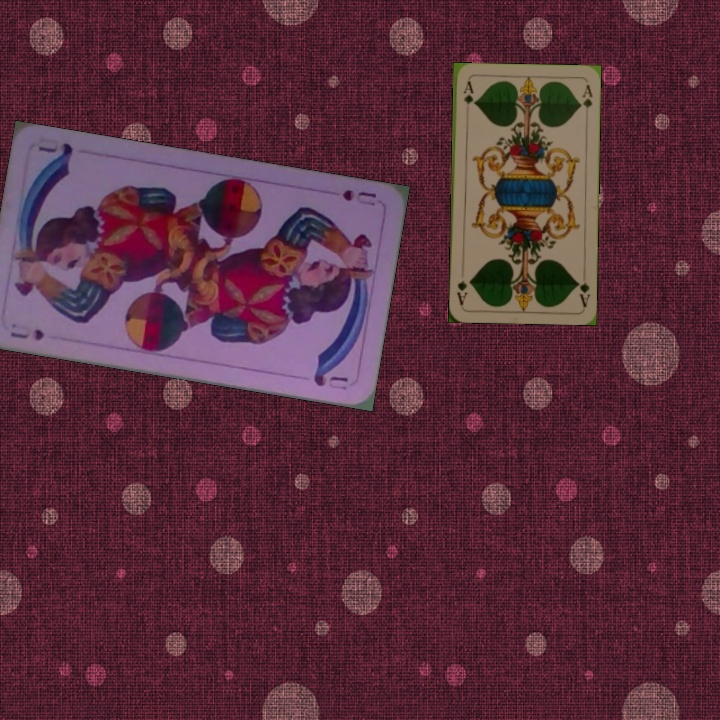GA: (573, 268, 592, 309), (459, 77, 475, 107)
SU: (338, 186, 379, 208), (6, 324, 47, 343)
